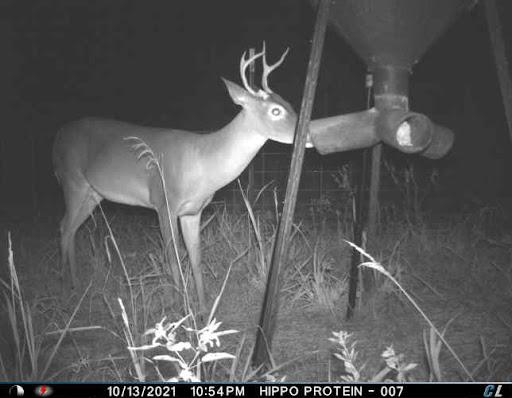Deer: (43, 34, 313, 328)
